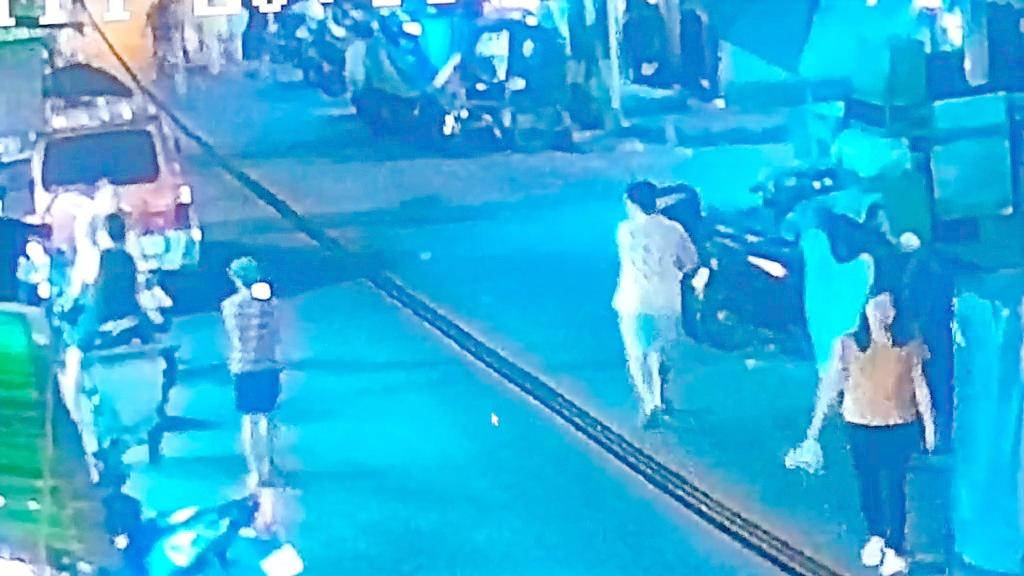Car: (24, 82, 219, 302)
Motor: (600, 141, 861, 360), (331, 0, 526, 148)
